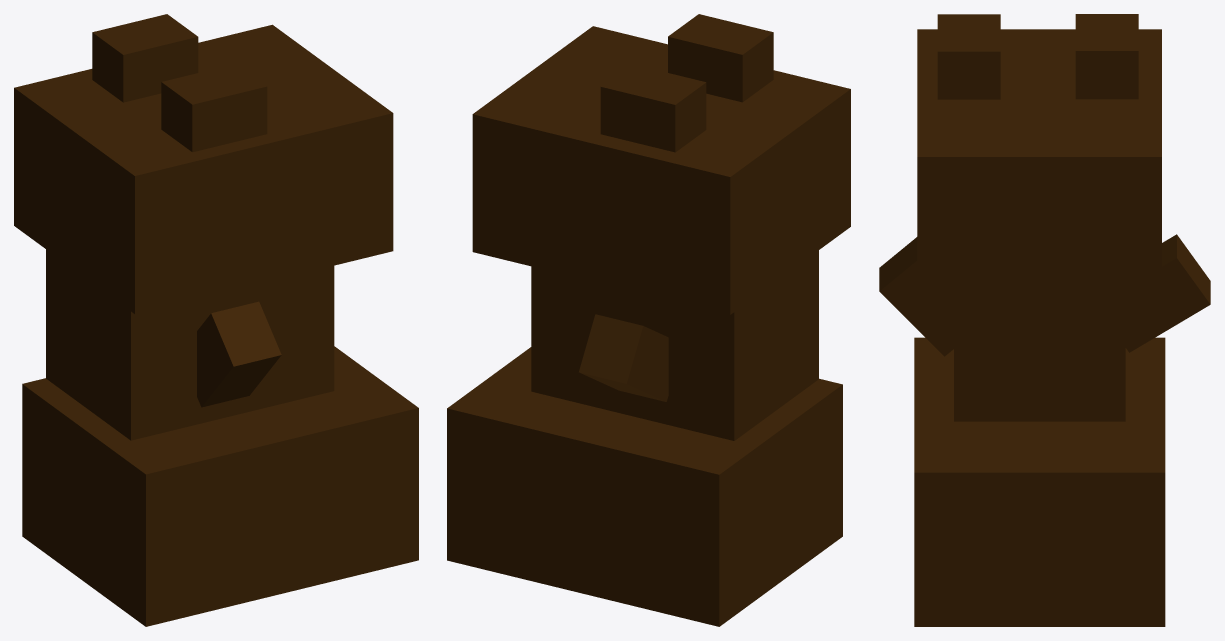
File: EtIdle.obj
3 renders of one model, left to right at view 1: azimuth 30°, elevation 25°; view 2: azimuth 150°, elevation 25°; view 3: azimuth 270°, elevation 25°, orthographic.
Visible parts, largest first — view 1: Cube.003; view 2: Cube.003; view 3: Cube.003.
Boxes of the visible parts, x1,y1,x2,y2 form: Cube.003: (14,14,418,626); Cube.003: (447,14,850,626); Cube.003: (879,14,1210,626).
Size of the model in its own units: 2.25 by 3.81 by 2.26.
